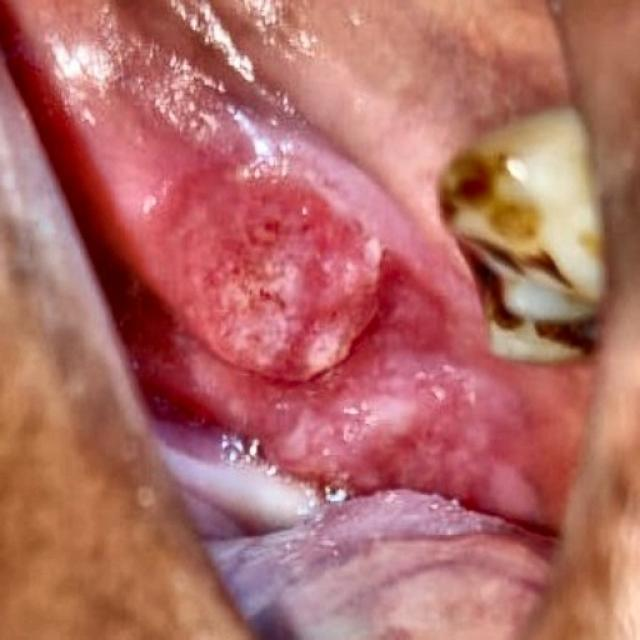cancer-detection: (61, 51, 539, 527)
processing_area: (2, 0, 609, 639)
